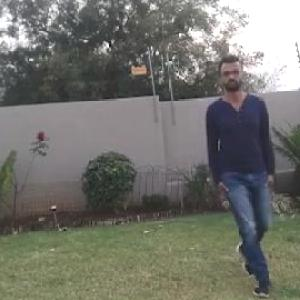follow: (173, 40, 267, 299)
